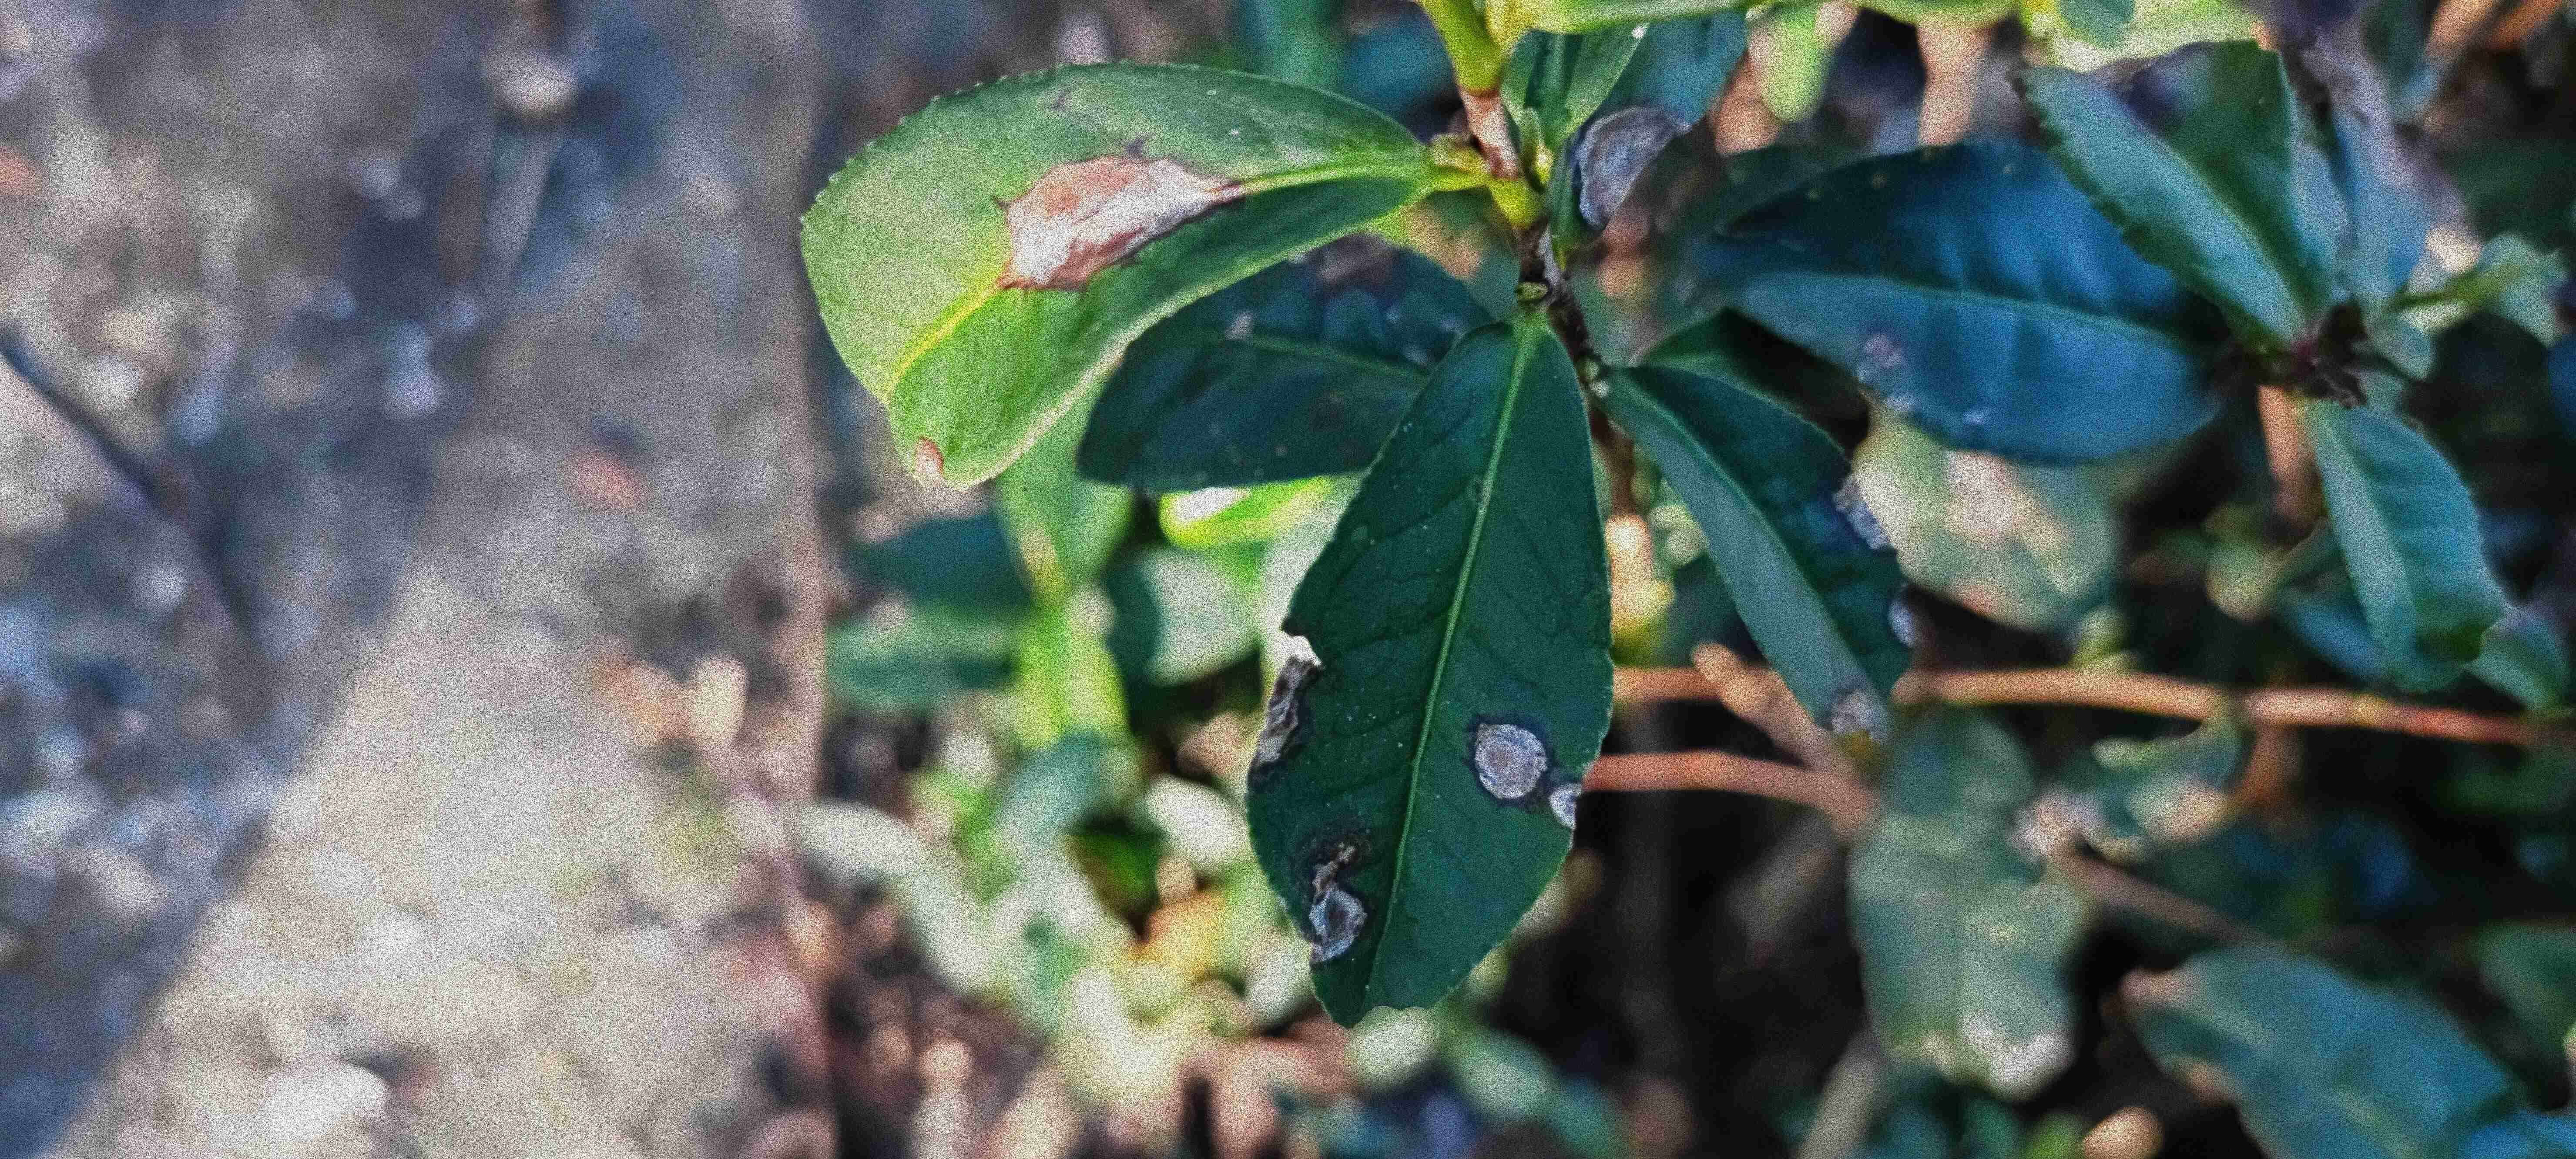tanju_high: (793, 57, 1441, 488), (1240, 314, 1620, 1033), (1672, 141, 2247, 470), (1598, 366, 1927, 740)
